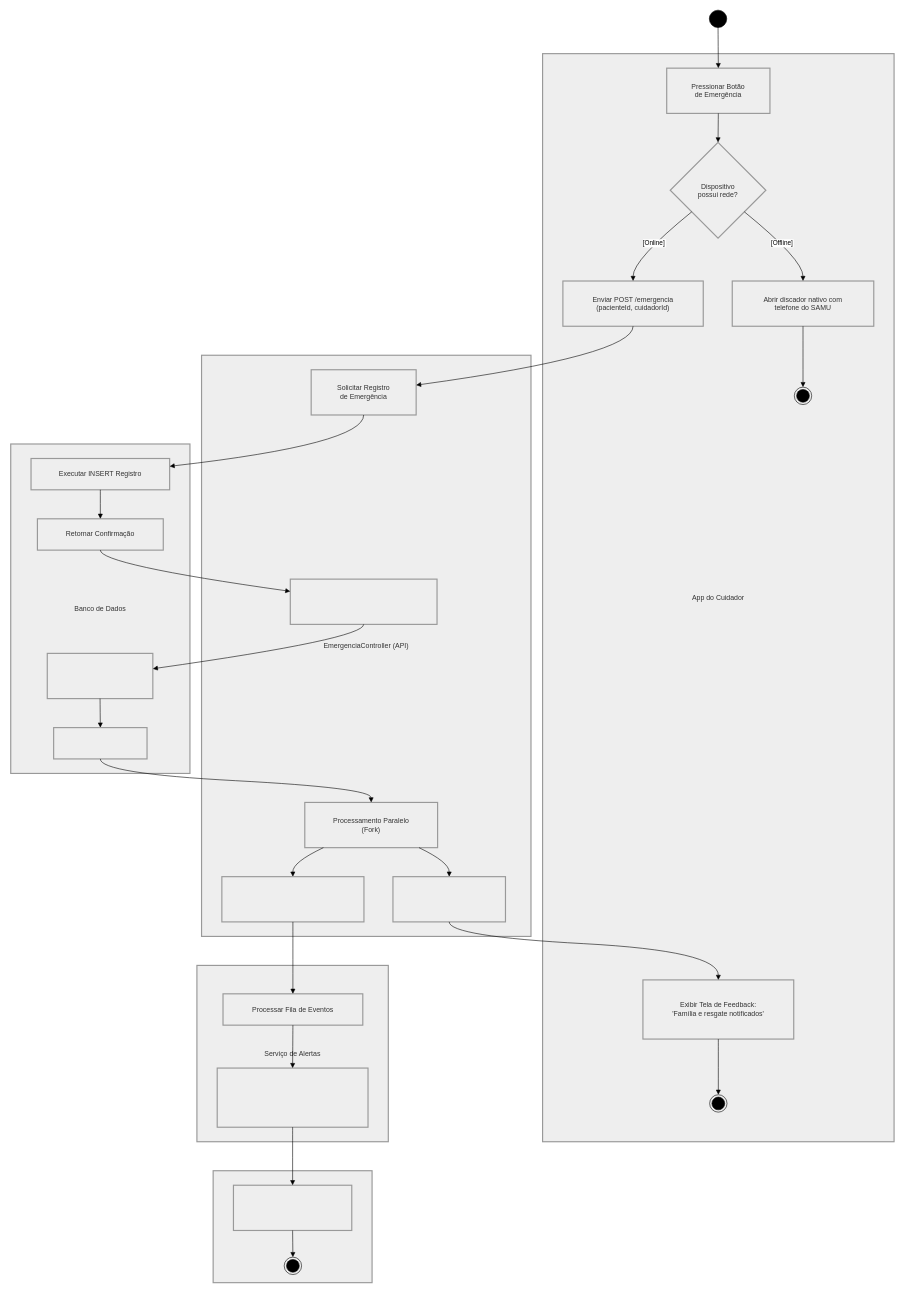
Some shapes in this 904 by 1293 pixel diagram are drawn without their labels. The centre of each missing label's shape, as x and y in pixels:
"Buscar Contatos Familiares Administradores" goes at pixel 363 601.
"Disparar Evento EmergencyTriggeredEvent" goes at pixel 292 899.
"Enviar Push Crítico / SMS (Bypass modo 'Não Perturbe')" goes at pixel 292 1097.
"Executar SELECT telefones/tokens" goes at pixel 99 675.
"Receber Notificação no App/Celular" goes at pixel 292 1207.
"Retornar HTTP 202 (Accepted)" goes at pixel 449 899.
"Retornar Lista" goes at pixel 100 743.
